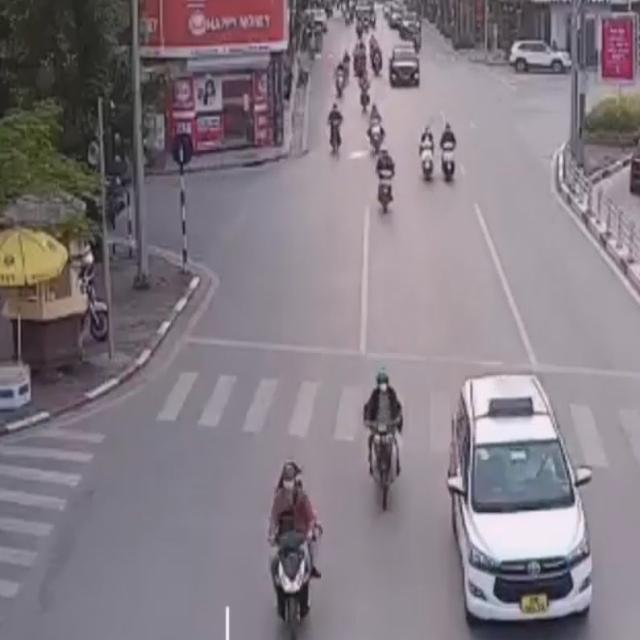car: (444, 370, 596, 636)
motorbike: (264, 461, 324, 638), (358, 368, 406, 520), (374, 146, 396, 219), (438, 120, 458, 186), (416, 123, 436, 183)
